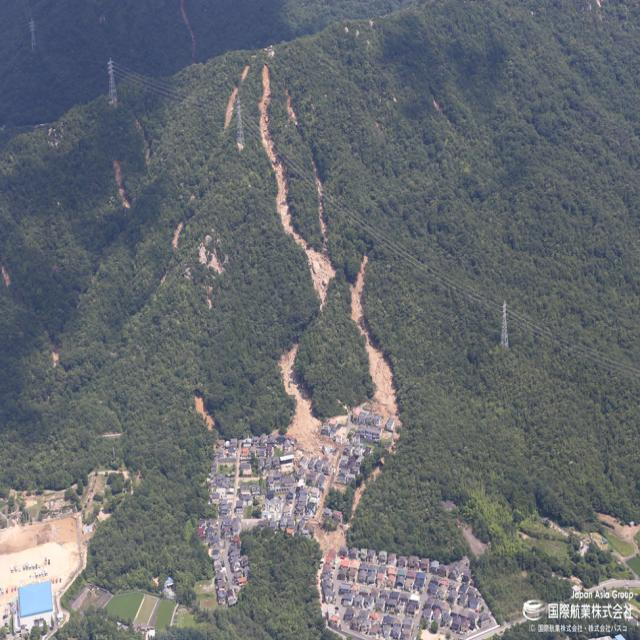Debris-flow: (259, 66, 335, 304), (350, 257, 398, 419), (280, 345, 320, 450), (315, 170, 326, 237), (195, 395, 215, 429), (462, 526, 485, 553), (226, 86, 239, 130), (209, 255, 221, 269), (241, 66, 249, 83), (620, 530, 630, 538)
